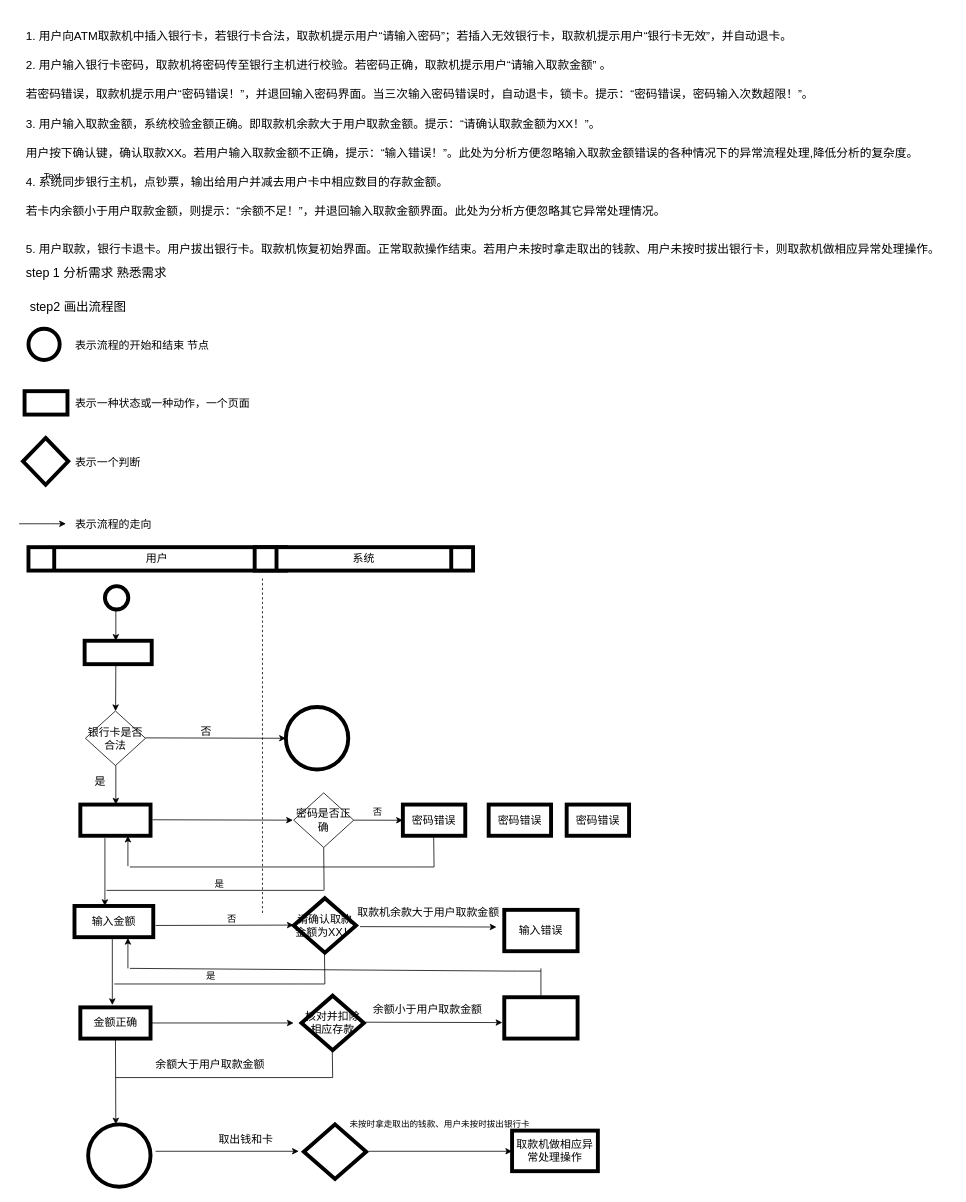
The diagram is 966 pixels wide and 1202 high, and some of its shapes have lost their labels. The shapes that lost their labels are listed below. From the top down, each one's centre as x and y in pixels, then its label:
At [117,652]: "插入银行卡".
At [317,738]: "“银行卡无效”，并自动退卡".
At [115,819]: "请输入密码".
At [540,1017]: "余额不足".
At [119,1155]: "取款成功，退卡".
At [334,1151]: "是否拿走取出的钱款".
